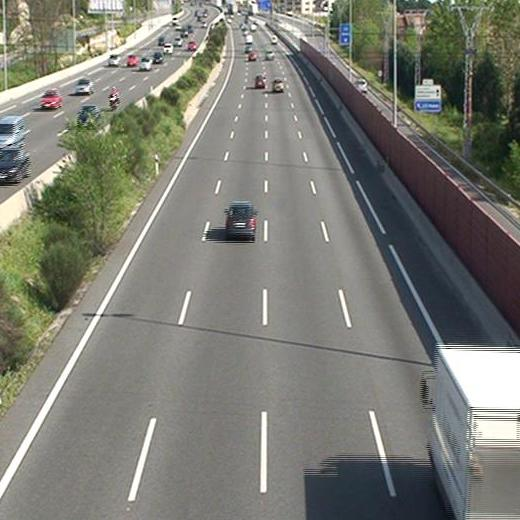car: (226, 204, 255, 238), (254, 74, 266, 89), (272, 79, 284, 92), (247, 52, 256, 61), (266, 50, 275, 59)
small-truck: (426, 346, 520, 518)
